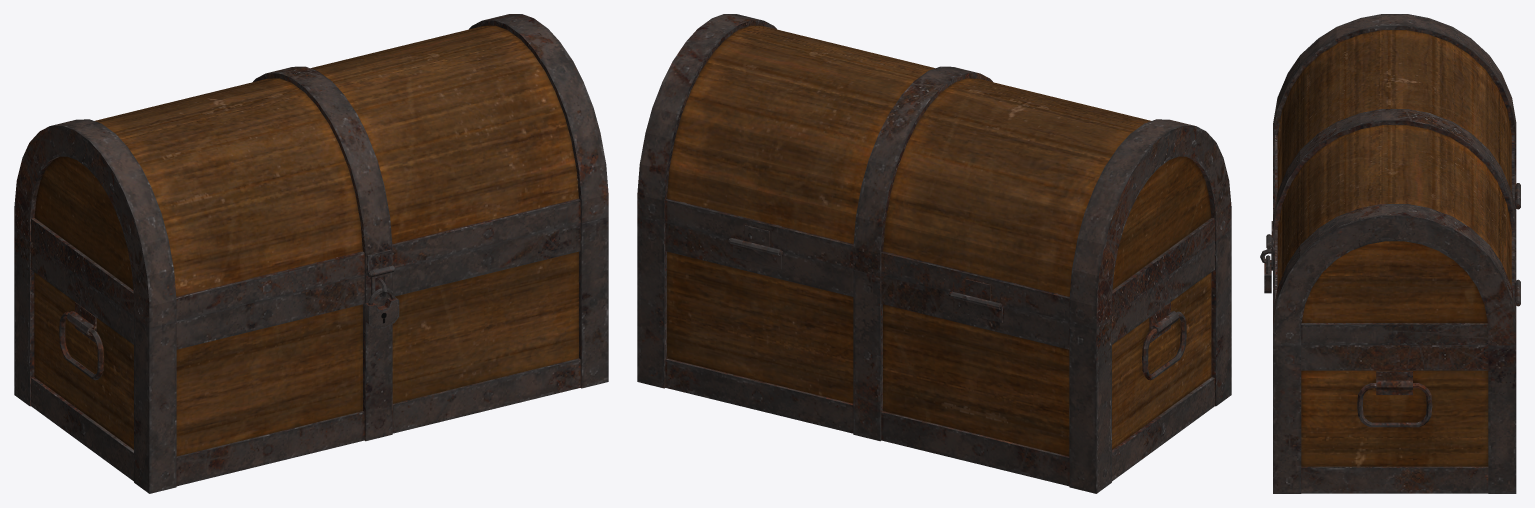
File: TreasureChest001.fbx
3 renders of one model, left to right at view 1: azimuth 30°, elevation 25°; view 2: azimuth 150°, elevation 25°; view 3: azimuth 270°, elevation 25°, orthographic. The views are drawn at different scales.
Parts seen in each view (by area): view 1: SM_TreasureChest_Lid, SM_TreasureChest_Body, SM_TreasureChest_Lock, SM_TreasureChestHandle_R; view 2: SM_TreasureChest_Lid, SM_TreasureChest_Body, SM_TreasureChestHandle_R; view 3: SM_TreasureChest_Lid, SM_TreasureChest_Body, SM_TreasureChestHandle_L.
Boxes of the visible parts, x1,y1,x2,y2 form: SM_TreasureChest_Lid: (14,14,608,328); SM_TreasureChest_Body: (14,217,608,493); SM_TreasureChest_Lock: (364,288,399,328); SM_TreasureChestHandle_R: (59,311,103,380); SM_TreasureChest_Lid: (637,14,1231,328); SM_TreasureChest_Body: (637,217,1231,493); SM_TreasureChestHandle_R: (1142,311,1186,380); SM_TreasureChest_Lid: (1266,14,1520,345); SM_TreasureChest_Body: (1260,155,1520,493); SM_TreasureChestHandle_L: (1357,383,1432,427).
Size of the model in its own units: 104 by 65.61 by 55.76.
